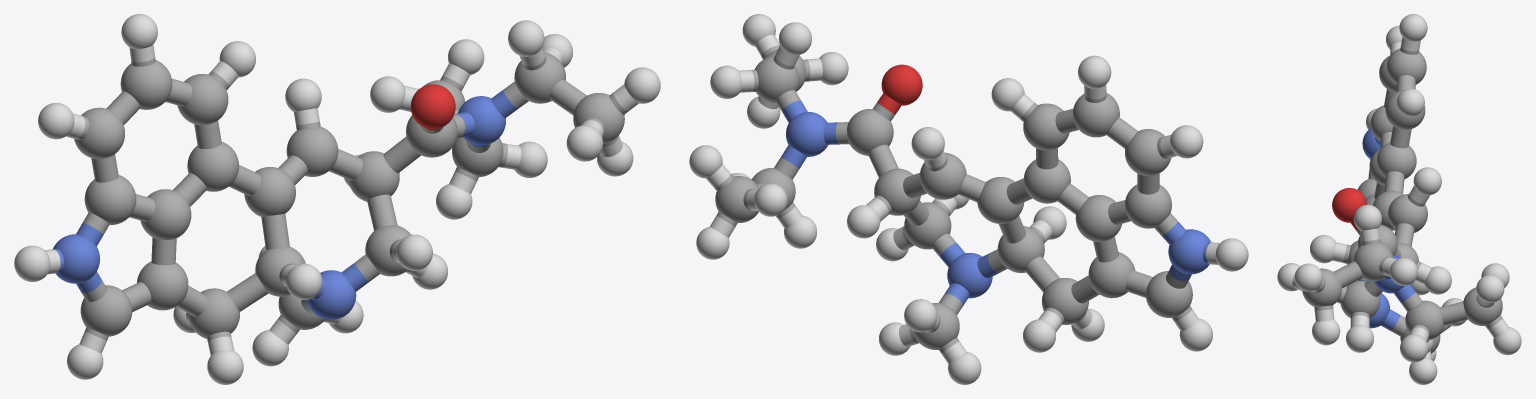
Rendered from LSD-bas-color-print.glb.
3 renders of one model, left to right at view 1: azimuth 30°, elevation 25°; view 2: azimuth 150°, elevation 25°; view 3: azimuth 270°, elevation 25°, orthographic. The views are drawn at different scales.
Parts seen in each view (by area): view 1: atoms, bonds; view 2: atoms, bonds; view 3: atoms, bonds.
Boxes of the visible parts, x1,y1,x2,y2 form: atoms: (14,14,660,384); bonds: (45,44,638,355); atoms: (689,14,1248,384); bonds: (706,34,1219,363); atoms: (1277,14,1521,384); bonds: (1292,37,1508,359).
Bounding box in the file's own units: 13.56 × 8.41 × 6.22.
